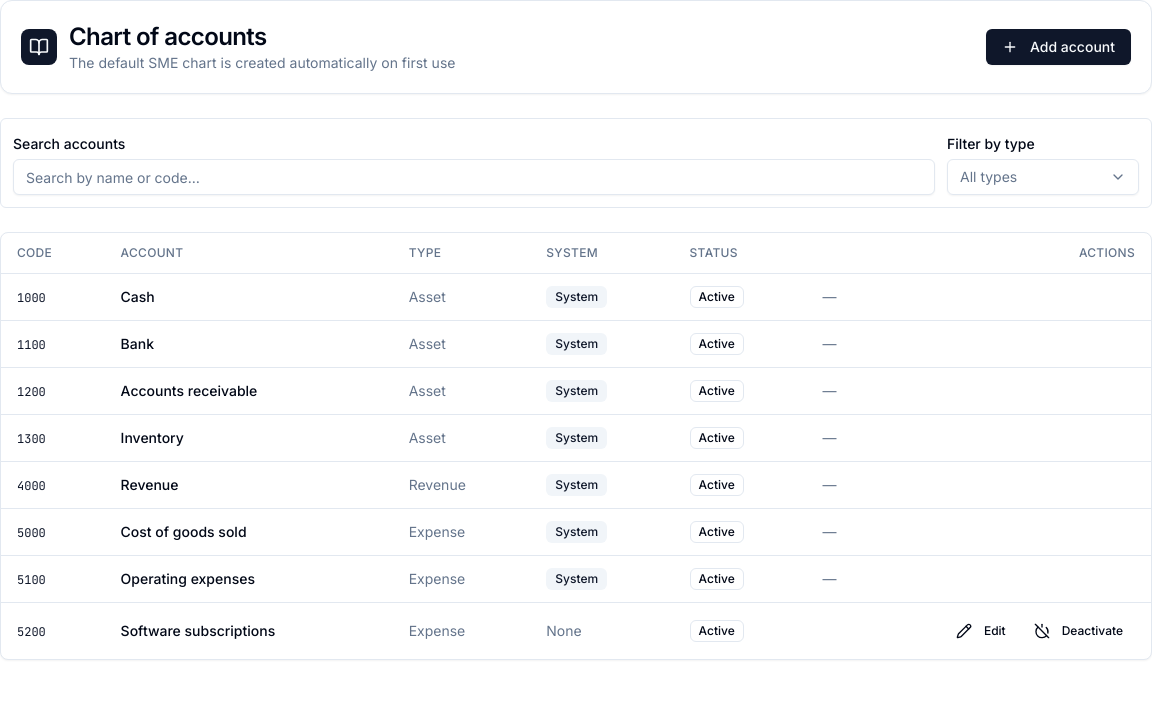
Scenario: ChartOfAccountsView — search + type filter › filters accounts by name as the user types in the search bar
The width and height of the screenshot is (1152, 720).
Expected: the link "Bank" is shown, [121,335,154,352]
Expected: the link "Software subscriptions" is shown, [121,622,275,639]
Type "software" into the search field labelled "Search accounts" at point(474, 177), box [13,159,935,195]
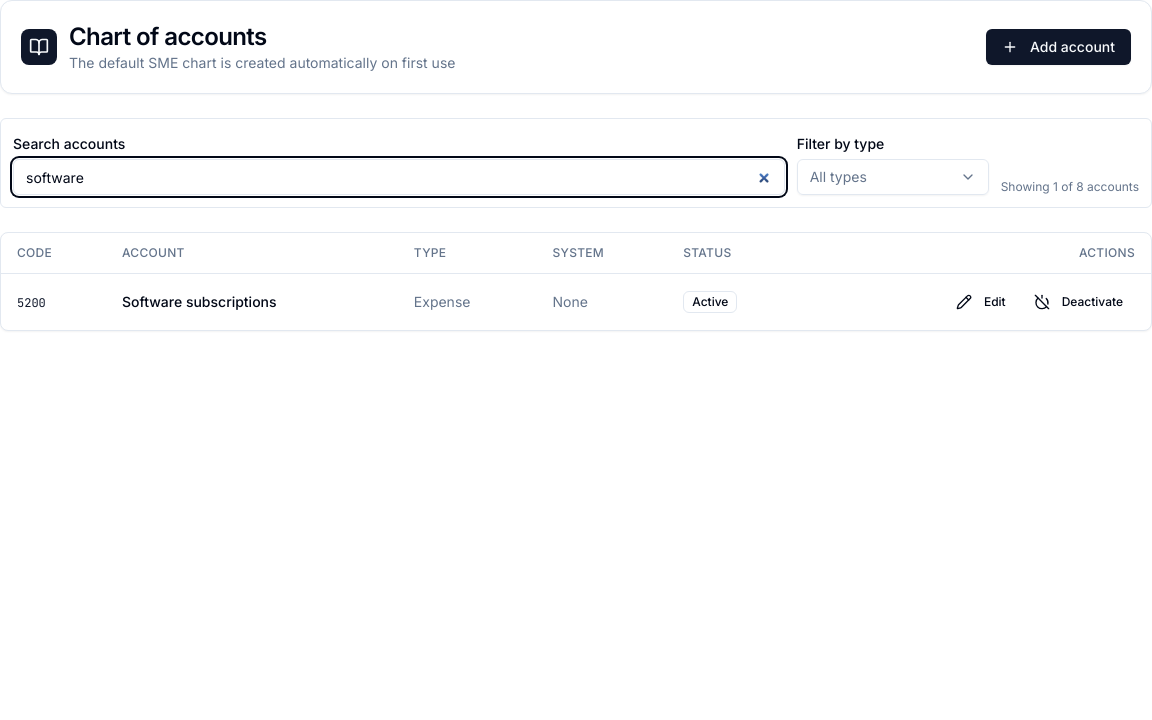
Expected: the link "Software subscriptions" is shown, [122,293,277,310]
Result: the link "Bank" is gone
Result: the text "Showing 1 of 8 accounts" is shown at [1001,179,1139,195]
